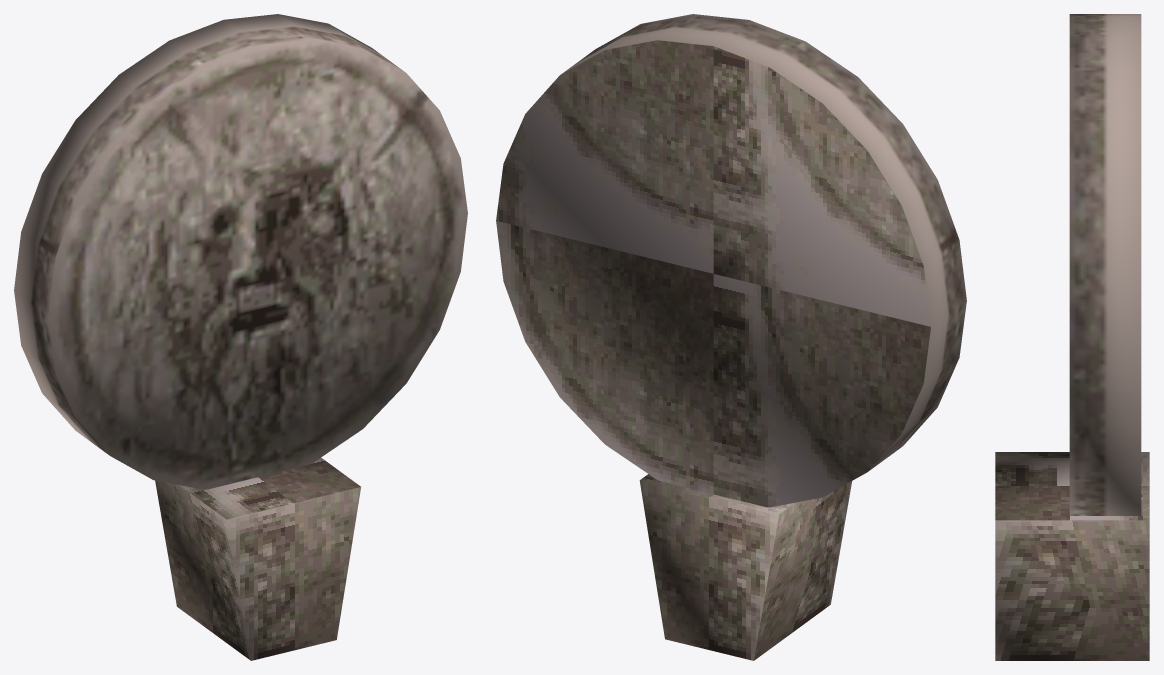
File: int_jhn_truth.dae
3 views of the same model, side by side, from view 1: azimuth 30°, elevation 25°; view 2: azimuth 150°, elevation 25°; view 3: azimuth 270°, elevation 25° (orthographic). The views are drawn at different scales.
Parts seen in each view (by area): view 1: int_jhn_truth; view 2: int_jhn_truth; view 3: int_jhn_truth.
Boxes of the visible parts, bbox=[...] form: int_jhn_truth: bbox=[14, 14, 467, 660]; int_jhn_truth: bbox=[496, 14, 966, 660]; int_jhn_truth: bbox=[995, 14, 1149, 660].
Size of the model in its own units: 54.85 by 72.39 by 16.8.
Materials: 2 (2 with a texture image).
